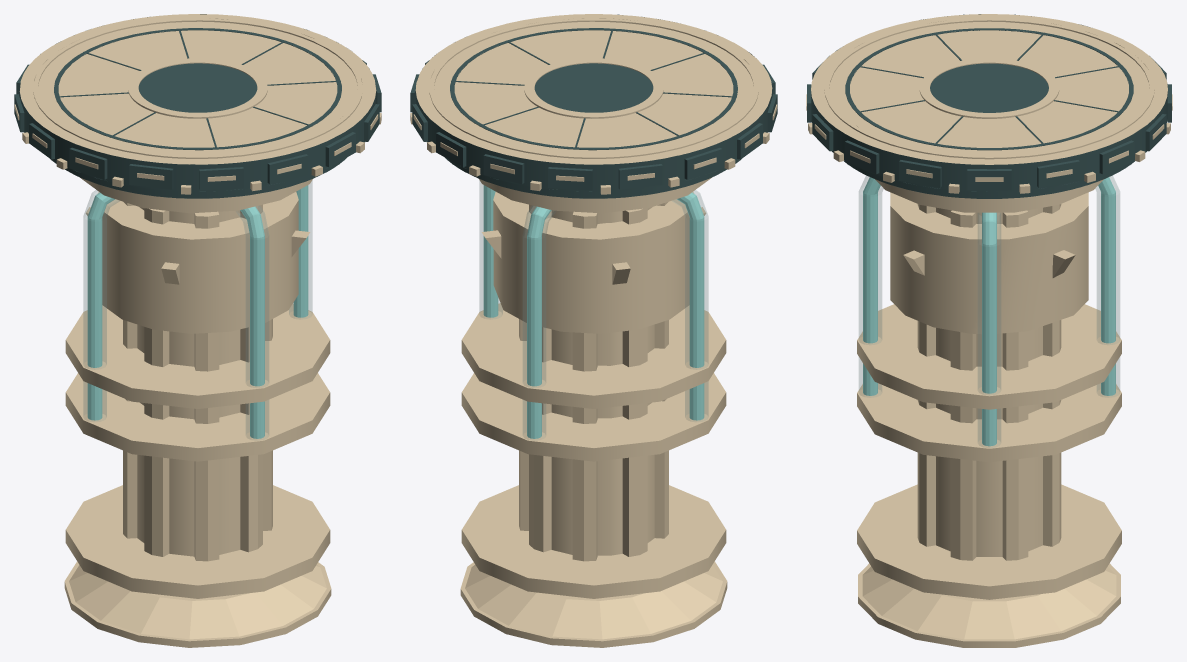
The model's file is Platform_Pillar_D18.glb.
3 views of the same model, side by side, from view 1: azimuth 30°, elevation 25°; view 2: azimuth 150°, elevation 25°; view 3: azimuth 270°, elevation 25° (orthographic).
Visible parts, largest first — view 1: Platform_Pillar_D18; view 2: Platform_Pillar_D18; view 3: Platform_Pillar_D18.
Part boxes in pixels (x1,y1,x2,y2): Platform_Pillar_D18: [14, 14, 381, 647]; Platform_Pillar_D18: [410, 14, 777, 647]; Platform_Pillar_D18: [806, 14, 1172, 647].
Bounding box in the file's own units: 12.32 × 18.71 × 12.32.
